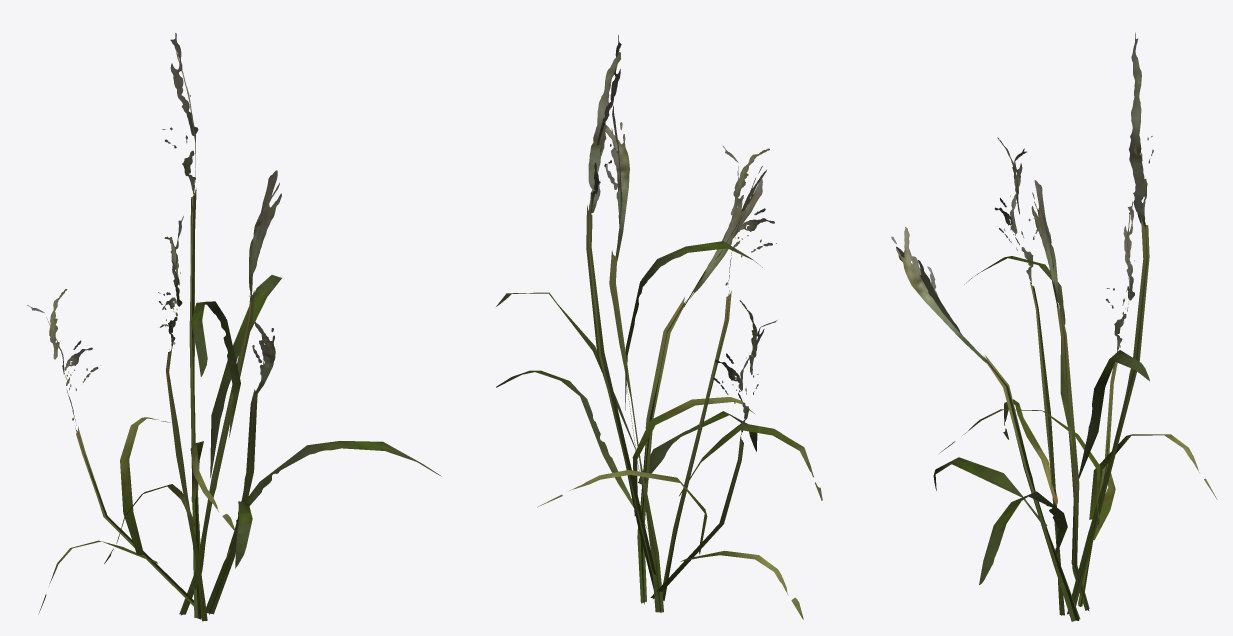
The picture shows the model from 3 angles, left to right: view 1: azimuth 30°, elevation 25°; view 2: azimuth 150°, elevation 25°; view 3: azimuth 270°, elevation 25°; orthographic projection. The views are drawn at different scales.
Visible parts, largest first — view 1: grass_medium_01__g_lod1; view 2: grass_medium_01__g_lod1; view 3: grass_medium_01__g_lod1.
Part boxes in pixels (bbox=[...]): grass_medium_01__g_lod1: bbox=[27, 33, 441, 621]; grass_medium_01__g_lod1: bbox=[496, 35, 822, 619]; grass_medium_01__g_lod1: bbox=[891, 32, 1217, 621].
Size of the model in its own units: 0.1571 by 0.2392 by 0.1315.
1 material, 1 textured.
